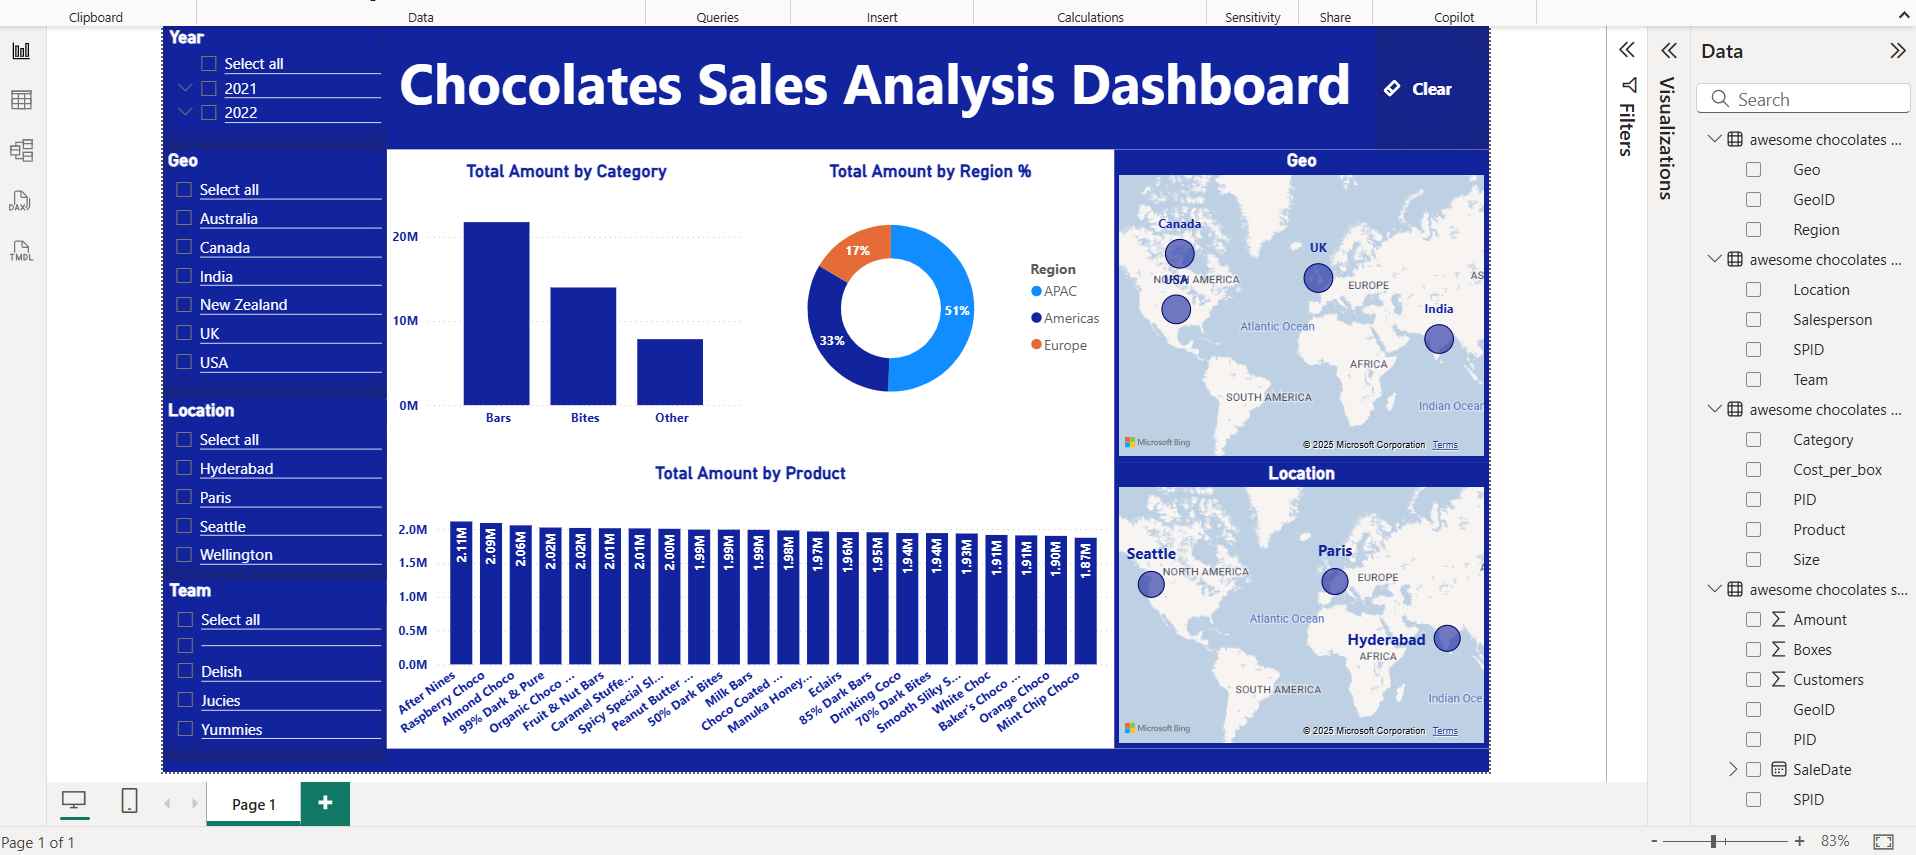

Layout of this report page (visuals, bound fields, positions):
{"tool":"powerbi","page":{"name":"Page 1","canvas":[1280,720],"ordinal":0},"visuals":[{"type":"shape","box":[0,0,1280,119.4],"z":0},{"type":"shape","box":[0,697.3,1280,22.9],"z":1000},{"type":"shape","box":[0,0,216,720.2],"z":2000},{"type":"columnChart","title":"Total Amount by Category","fields":{"Y":["Sum(awesome chocolates sales.Amount)"],"Category":["awesome chocolates products.Category"]},"box":[216,119.4,347.5,276.3],"z":3000},{"type":"donutChart","title":"Total Amount by Region %","fields":{"Category":["awesome chocolates geo.Region"],"Y":["Sum(awesome chocolates sales.Amount)"]},"box":[563.4,119.4,354.7,276.3],"z":4000},{"type":"clusteredColumnChart","title":"Total Amount by Product","fields":{"Y":["Sum(awesome chocolates sales.Amount)"],"Category":["awesome chocolates products.Product"]},"box":[216,421,702.1,276.3],"z":5000},{"type":"slicer","title":"Geo","fields":{"Values":["awesome chocolates geo.Geo"]},"box":[0,119.4,216,240.1],"z":6000},{"type":"slicer","title":"Location","fields":{"Values":["awesome chocolates people.Location"]},"box":[0,360.7,216,173.7],"z":7000},{"type":"slicer","title":"Year","fields":{"Values":["awesome chocolates sales.SaleDate.Variation.Date Hierarchy.Year","awesome chocolates sales.SaleDate.Variation.Date Hierarchy.Quarter","awesome chocolates sales.SaleDate.Variation.Date Hierarchy.Month"]},"box":[1.2,0,214.7,119.4],"z":8000},{"type":"textbox","box":[223.2,13.3,947.1,96.5],"z":9000},{"type":"slicer","title":"Team","fields":{"Values":["awesome chocolates people.Team"]},"box":[1.2,534.5,214.7,174.9],"z":10000},{"type":"map","fields":{"Category":["awesome chocolates geo.Geo"]},"box":[918.1,119.4,361.9,301.6],"z":11000},{"type":"map","fields":{"Category":["awesome chocolates people.Location"]},"box":[918.1,421,361.9,276.3],"z":12000},{"type":"actionButton","box":[1170.2,0,109.8,119.4],"z":13000}]}

Visuals, with their boxes on the page's 1280x720 design canvas (x1, y1, x2, y2). These are canvas units, not pixel positions in the 1916x855 screenshot, which may show the page scaled, cropped or inside an application window:
shape: {"x1": 0, "y1": 0, "x2": 1280, "y2": 119}
shape: {"x1": 0, "y1": 697, "x2": 1280, "y2": 720}
shape: {"x1": 0, "y1": 0, "x2": 216, "y2": 720}
"Total Amount by Category" columnChart: {"x1": 216, "y1": 119, "x2": 564, "y2": 396}
"Total Amount by Region %" donutChart: {"x1": 563, "y1": 119, "x2": 918, "y2": 396}
"Total Amount by Product" clusteredColumnChart: {"x1": 216, "y1": 421, "x2": 918, "y2": 697}
"Geo" slicer: {"x1": 0, "y1": 119, "x2": 216, "y2": 360}
"Location" slicer: {"x1": 0, "y1": 361, "x2": 216, "y2": 534}
"Year" slicer: {"x1": 1, "y1": 0, "x2": 216, "y2": 119}
textbox: {"x1": 223, "y1": 13, "x2": 1170, "y2": 110}
"Team" slicer: {"x1": 1, "y1": 534, "x2": 216, "y2": 709}
map - awesome chocolates geo.Geo: {"x1": 918, "y1": 119, "x2": 1280, "y2": 421}
map - awesome chocolates people.Location: {"x1": 918, "y1": 421, "x2": 1280, "y2": 697}
actionButton: {"x1": 1170, "y1": 0, "x2": 1280, "y2": 119}
